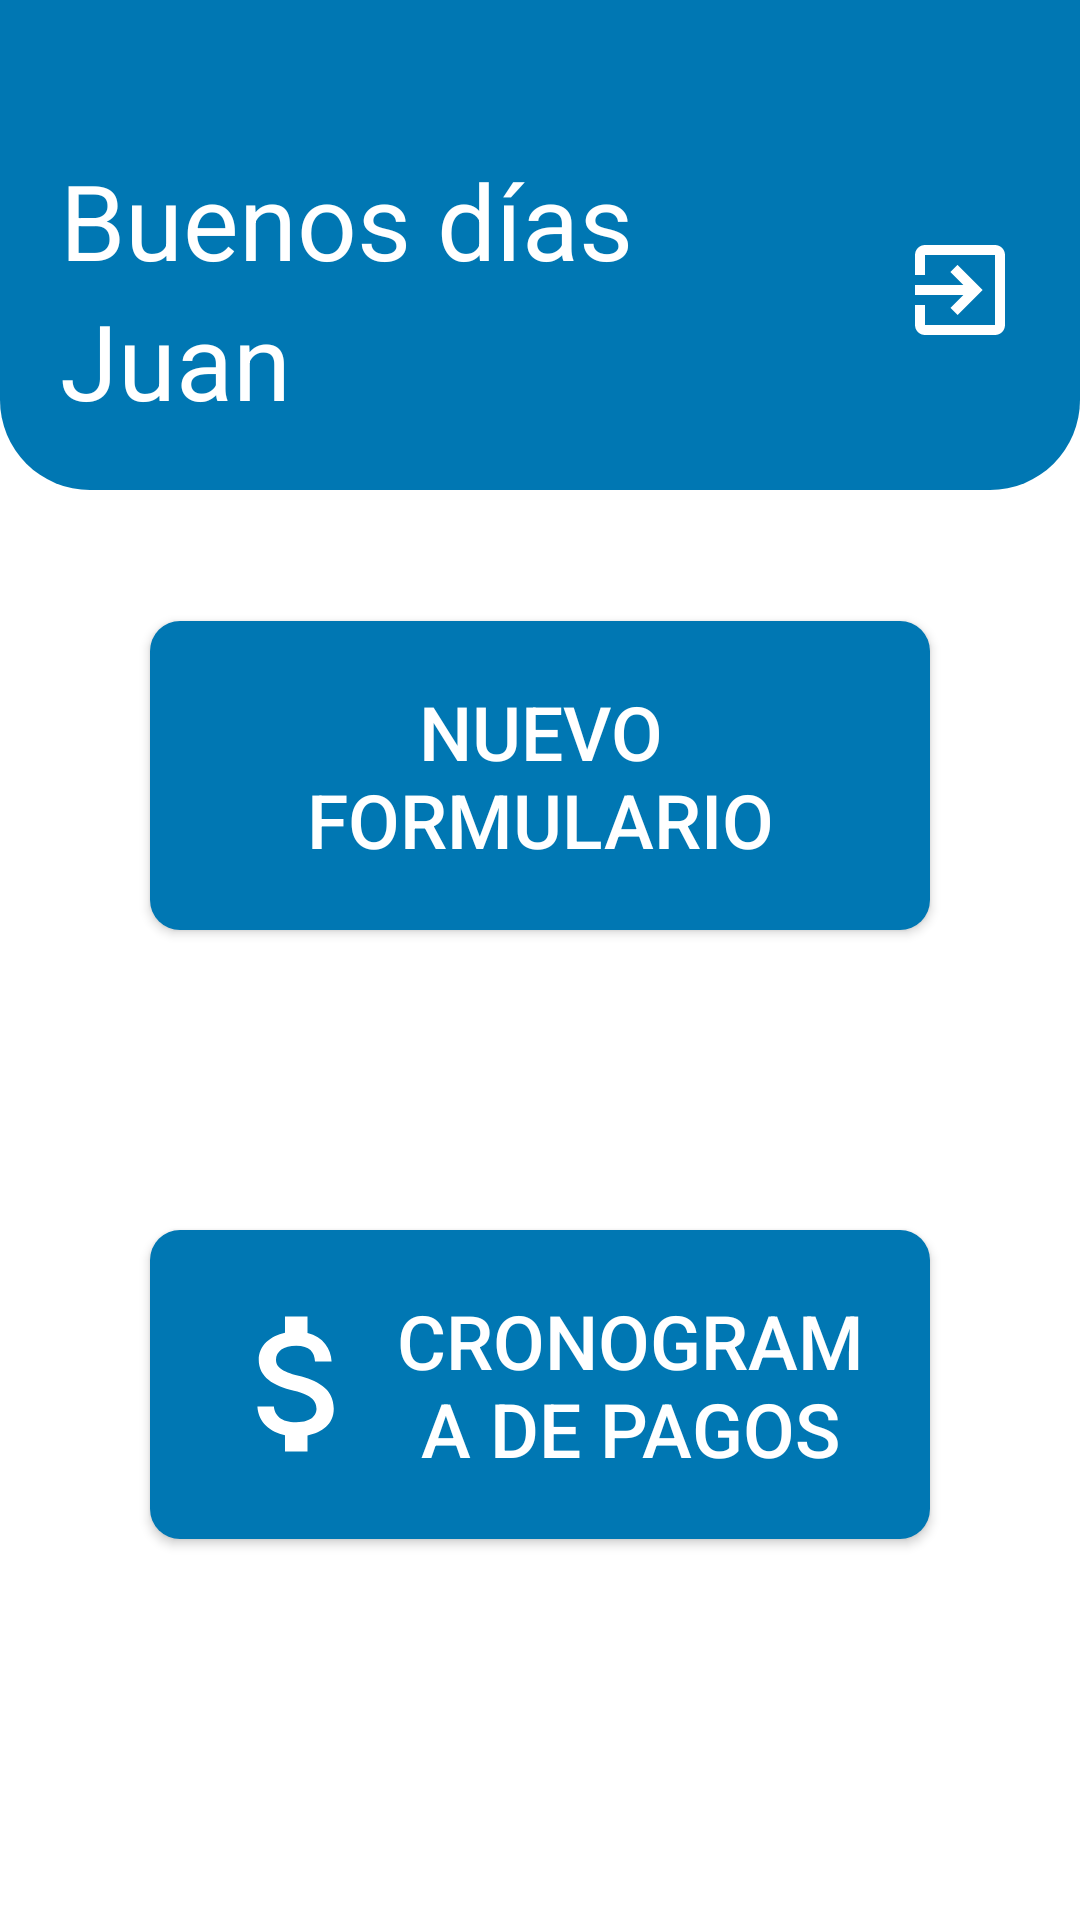

Locate icon controls on the screen. Image size 1080*1920, boxes as [x1, y1, x2, y2].
exit: [915, 245, 1005, 335]
